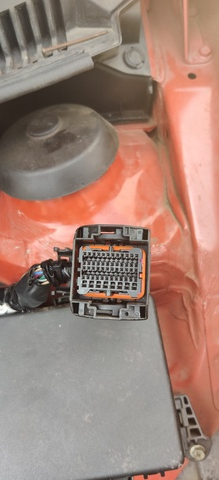connector: (69, 225, 151, 320)
